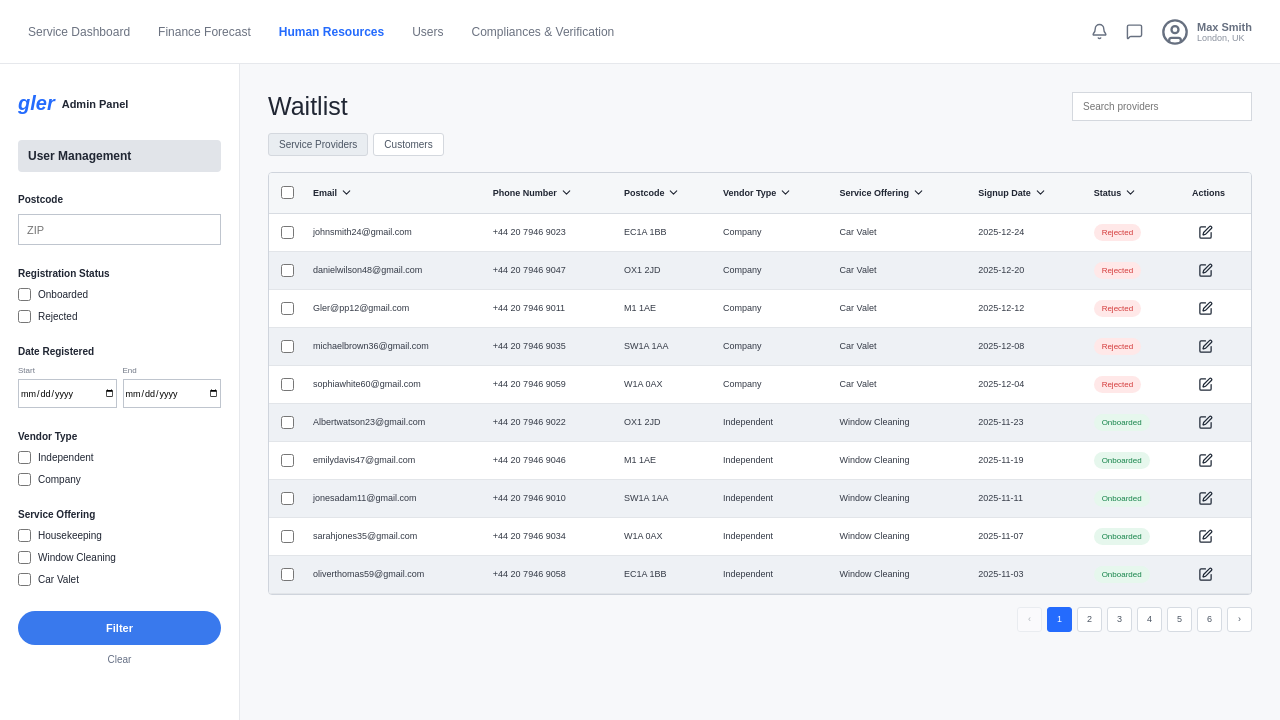
Test case: waitlist dashboard › filters providers and announces successful filter application
Type "SW1A" into the field labelled "Postcode" at [120, 230], box left=18, top=214, right=221, bottom=245
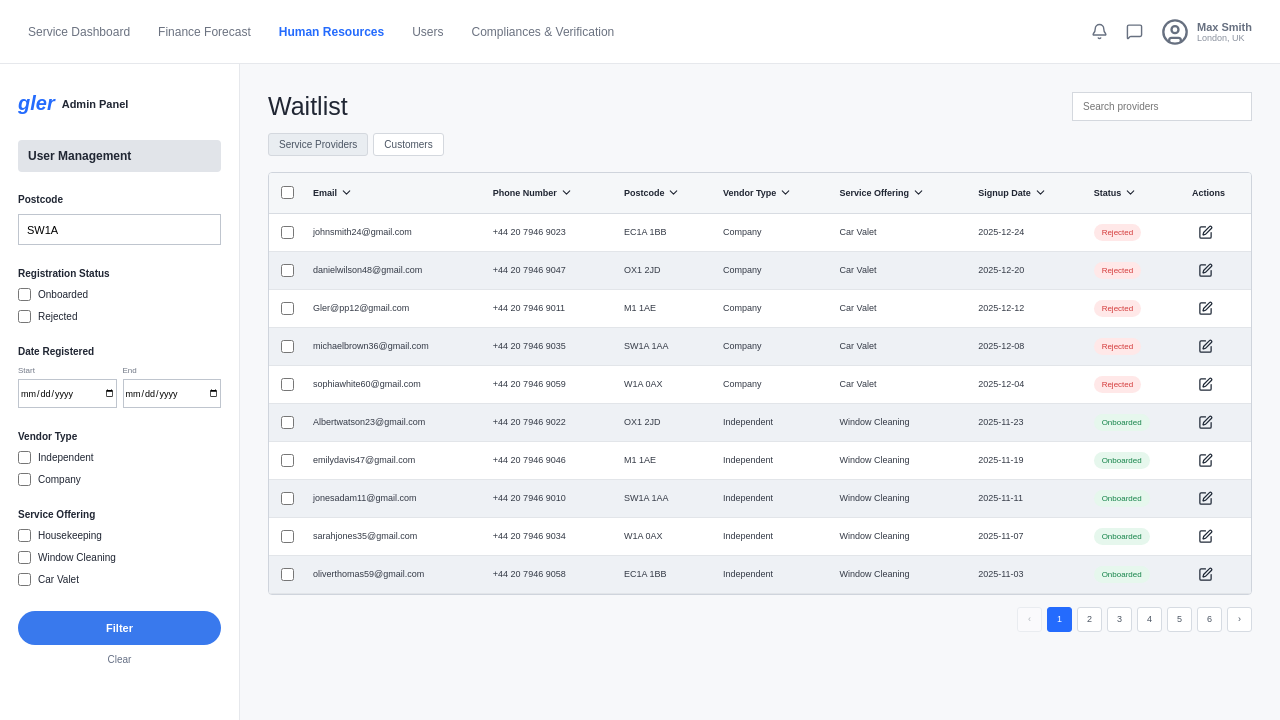
Click the button "Filter" at [120, 628], box left=18, top=611, right=221, bottom=645
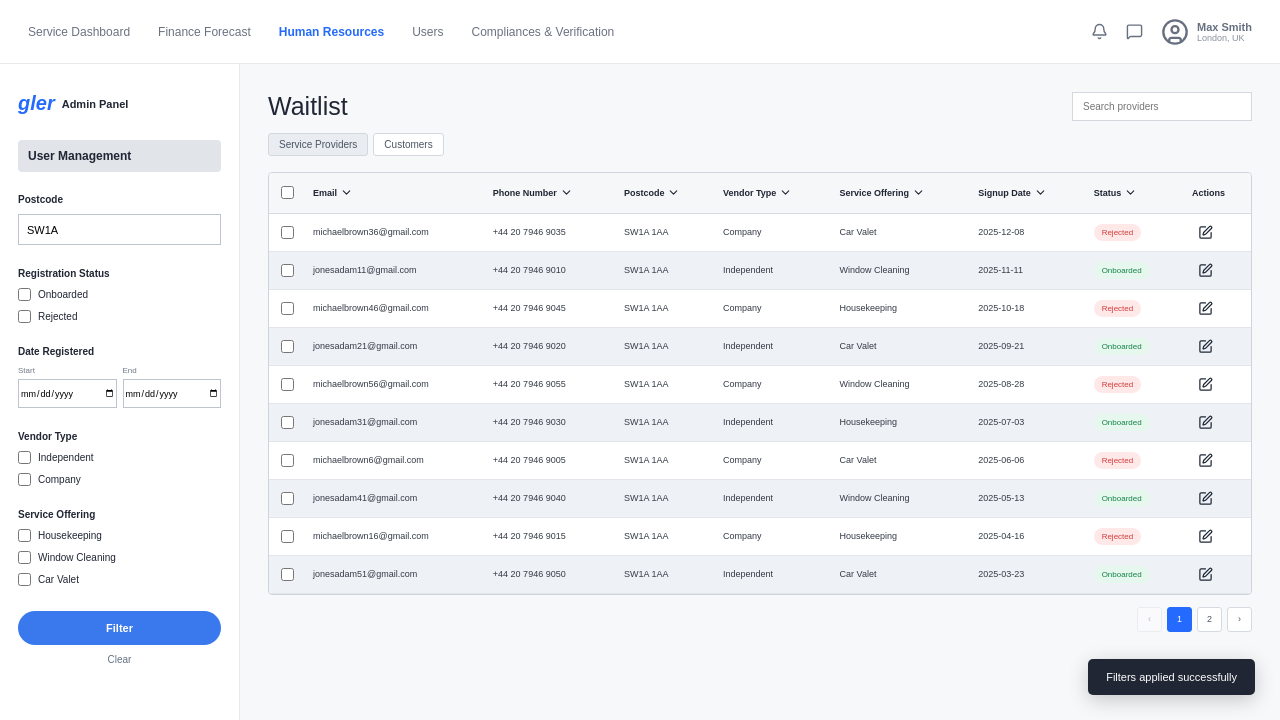
Expected: the message reads "Filters applied successfully", left=1106, top=671, right=1237, bottom=683
